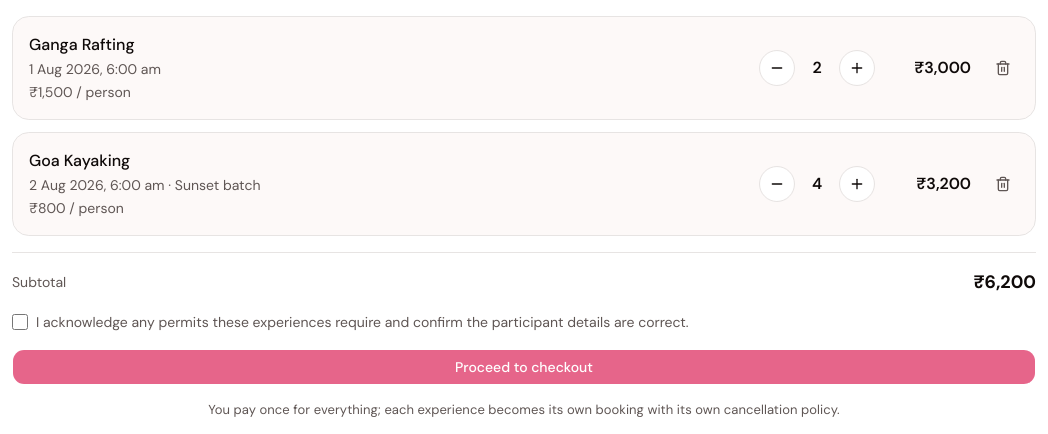
Test case: CartView › "Proceed to checkout" stays disabled until the permits acknowledgement is checked (issue 12)
The image size is (1048, 434).
Check: the button with test id "cart-checkout" is disabled, box left=12, top=349, right=1036, bottom=385
Click the checkbox with test id "cart-permits-ack" at [20, 322], box left=12, top=314, right=28, bottom=330
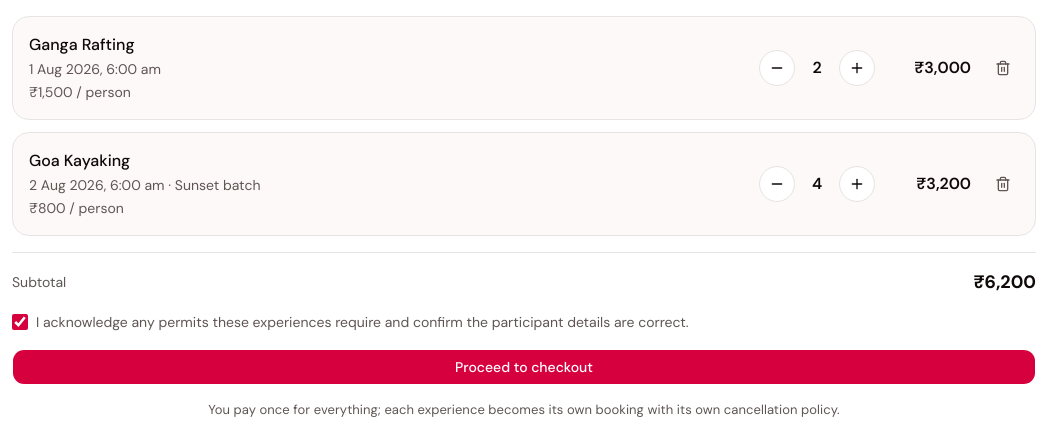
Check: the button with test id "cart-checkout" is enabled, box left=12, top=349, right=1036, bottom=385
